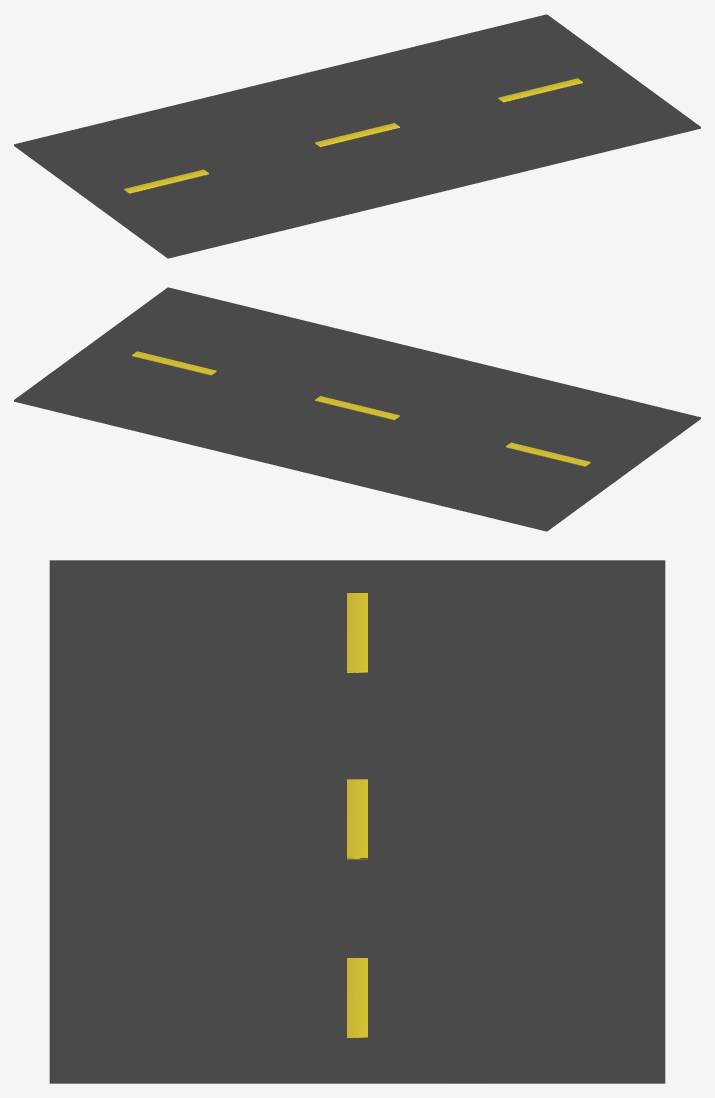
File: road1.fbx
3 views of the same model, one above another, from view 1: azimuth 30°, elevation 25°; view 2: azimuth 150°, elevation 25°; view 3: azimuth 270°, elevation 25° (orthographic). The views are drawn at different scales.
Parts seen in each view (by area): view 1: Cube, Cube.003, Cube.002, Cube.001; view 2: Cube, Cube.003, Cube.002, Cube.001; view 3: Cube, Cube.001, Cube.003, Cube.002.
Part boxes in pixels (x1,y1,x2,y2): Cube: (14,14,700,258); Cube.003: (124,169,208,193); Cube.002: (498,78,582,102); Cube.001: (315,123,399,147); Cube: (14,287,700,531); Cube.003: (506,442,590,466); Cube.002: (132,351,216,375); Cube.001: (315,396,399,420); Cube: (49,560,665,1083); Cube.001: (347,779,367,859); Cube.003: (347,593,367,672); Cube.002: (347,958,367,1037).
Bounding box in the file's own units: 400 × 1.96 × 200.
